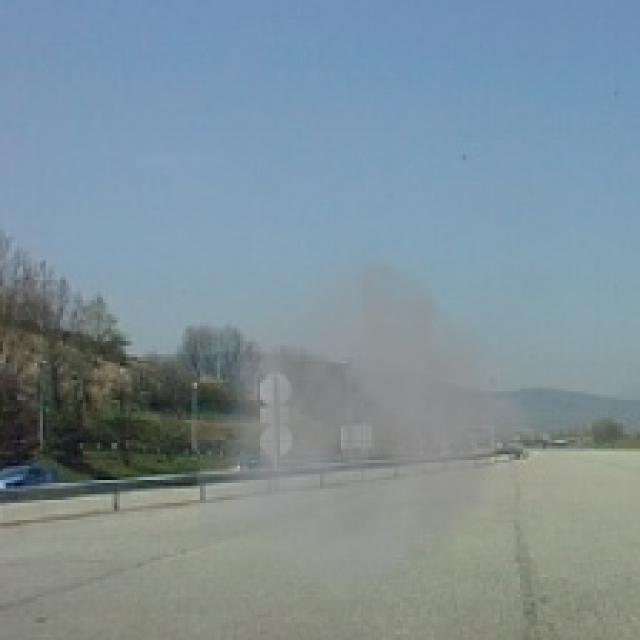smoke: (197, 240, 572, 614)
